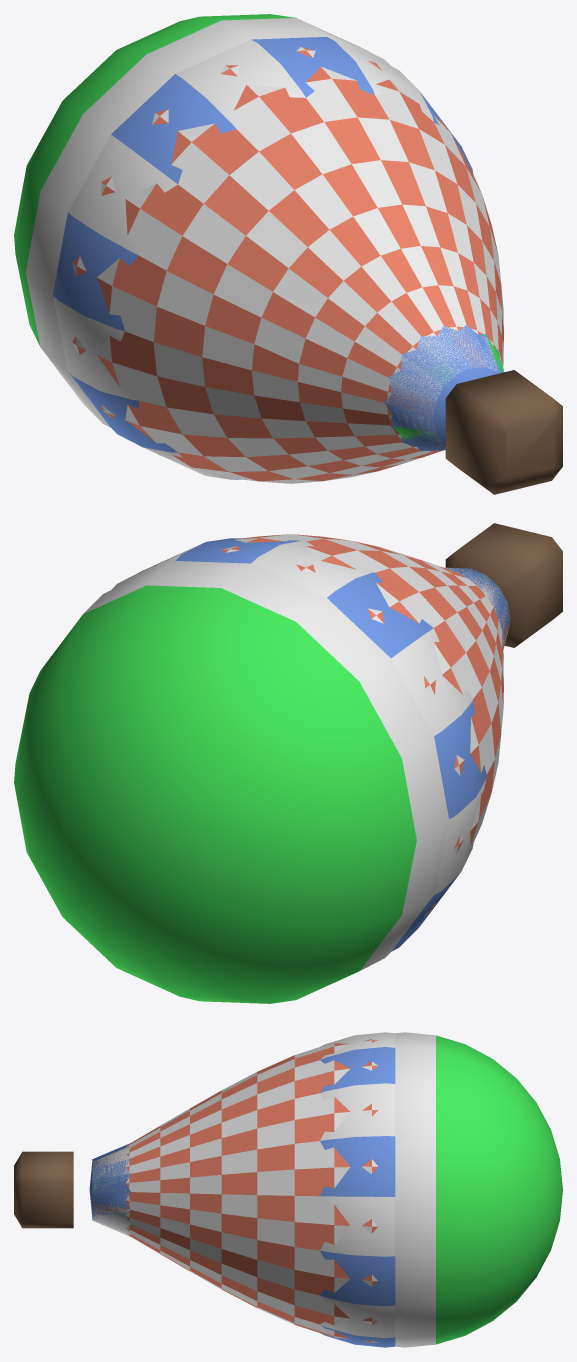
Rendered from Balloons.fbx.
The picture shows the model from 3 angles, top to bottom: view 1: azimuth 30°, elevation 25°; view 2: azimuth 150°, elevation 25°; view 3: azimuth 270°, elevation 25°; orthographic projection. The views are drawn at different scales.
Parts seen in each view (by area): view 1: Balloon 3, Balloon 2, Balloon 4, Balloon 5, Balloon 6; view 2: Balloon 2, Balloon 4, Balloon 3, Balloon 5; view 3: Balloon 2, Balloon 3, Balloon 4, Balloon 5, Balloon 6.
Boxes of the visible parts, x1,y1,x2,y2 form: Balloon 3: (72, 47, 503, 483); Balloon 2: (14, 14, 562, 494); Balloon 4: (53, 37, 473, 479); Balloon 5: (385, 325, 504, 446); Balloon 6: (385, 327, 503, 450); Balloon 2: (14, 523, 562, 1003); Balloon 4: (111, 538, 486, 951); Balloon 3: (153, 534, 503, 917); Balloon 5: (447, 567, 510, 649); Balloon 2: (14, 1032, 562, 1347); Balloon 3: (126, 1039, 378, 1342); Balloon 4: (320, 1032, 395, 1347); Balloon 5: (92, 1147, 130, 1235); Balloon 6: (92, 1155, 130, 1236).
Bounding box in the file's own units: 200 × 200 × 348.
